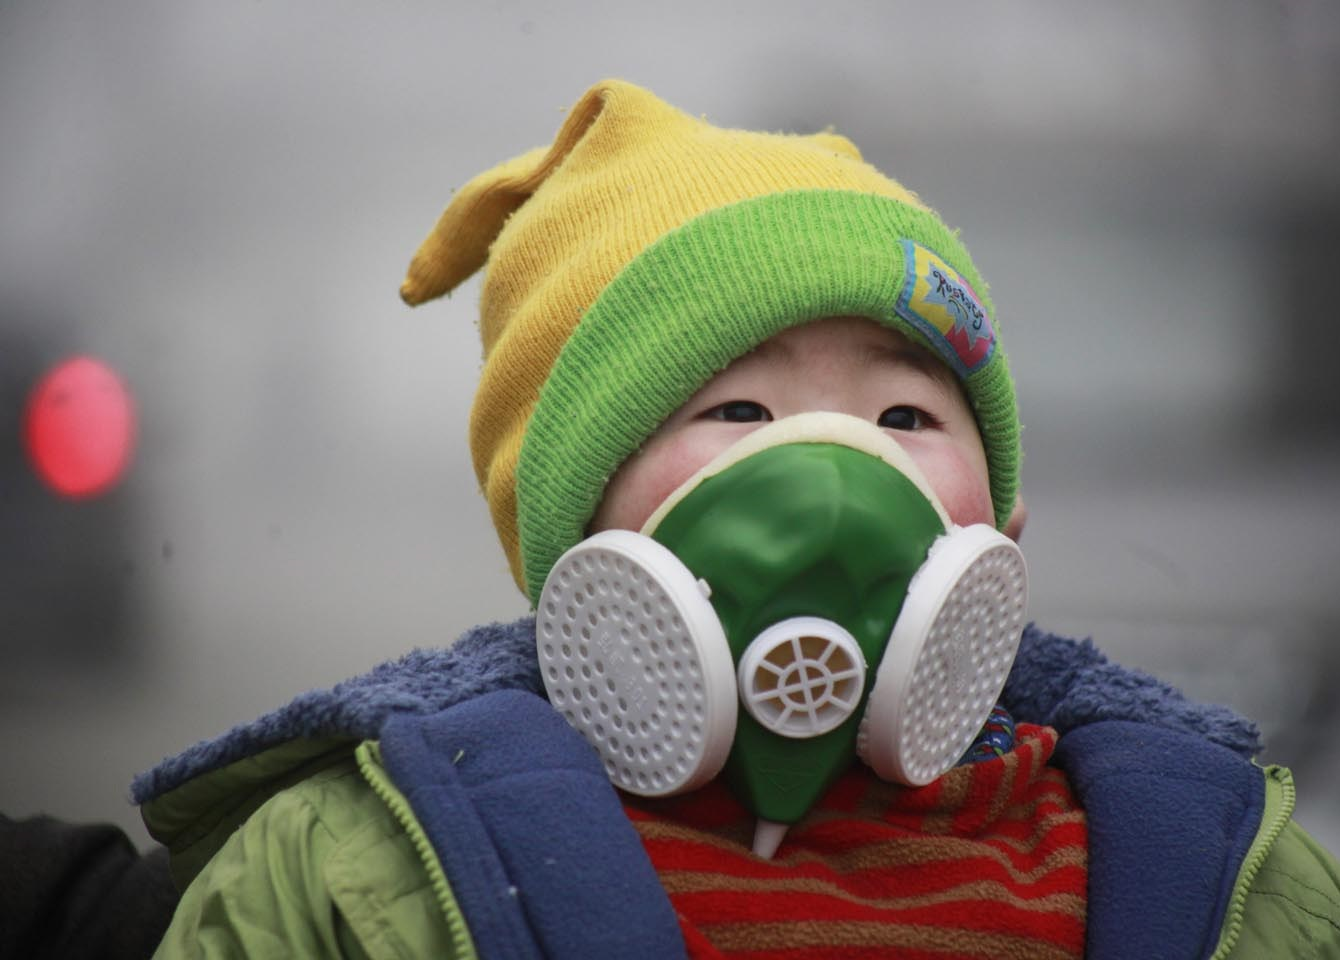face_mask: (614, 305, 995, 784)
